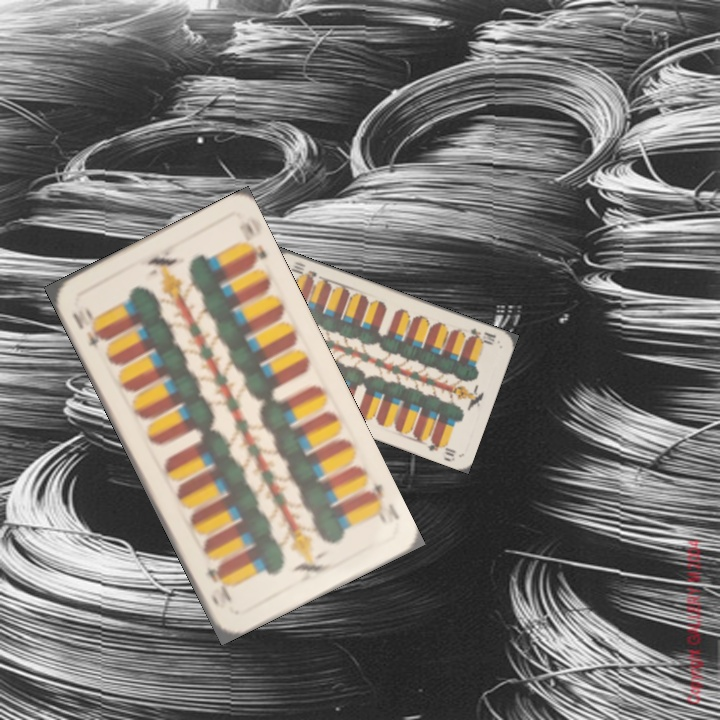E10: (68, 307, 108, 354), (361, 478, 402, 523), (464, 324, 499, 348)
